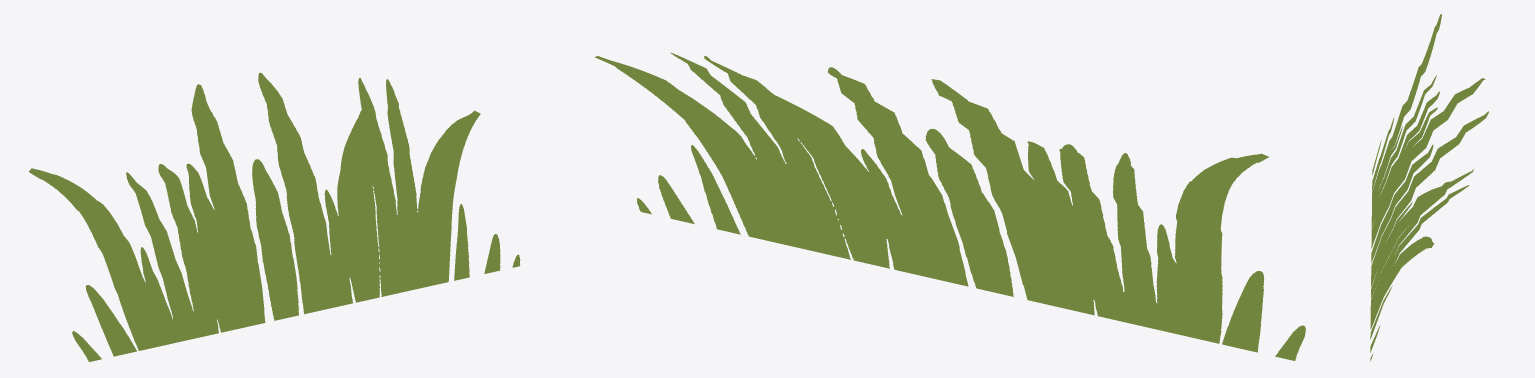
File: SM_Grass_02.fbx
3 views of the same model, side by side, from view 1: azimuth 30°, elevation 25°; view 2: azimuth 150°, elevation 25°; view 3: azimuth 270°, elevation 25° (orthographic). The views are drawn at different scales.
Parts seen in each view (by area): view 1: SM_Grass_02; view 2: SM_Grass_02; view 3: SM_Grass_02.
Part boxes in pixels (bbox=[...]): SM_Grass_02: bbox=[29, 72, 520, 361]; SM_Grass_02: bbox=[594, 52, 1305, 360]; SM_Grass_02: bbox=[1370, 14, 1488, 361].
Size of the model in its own units: 0.1197 by 0.0485 by 0.0369.
Materials: 1 (1 with a texture image).
